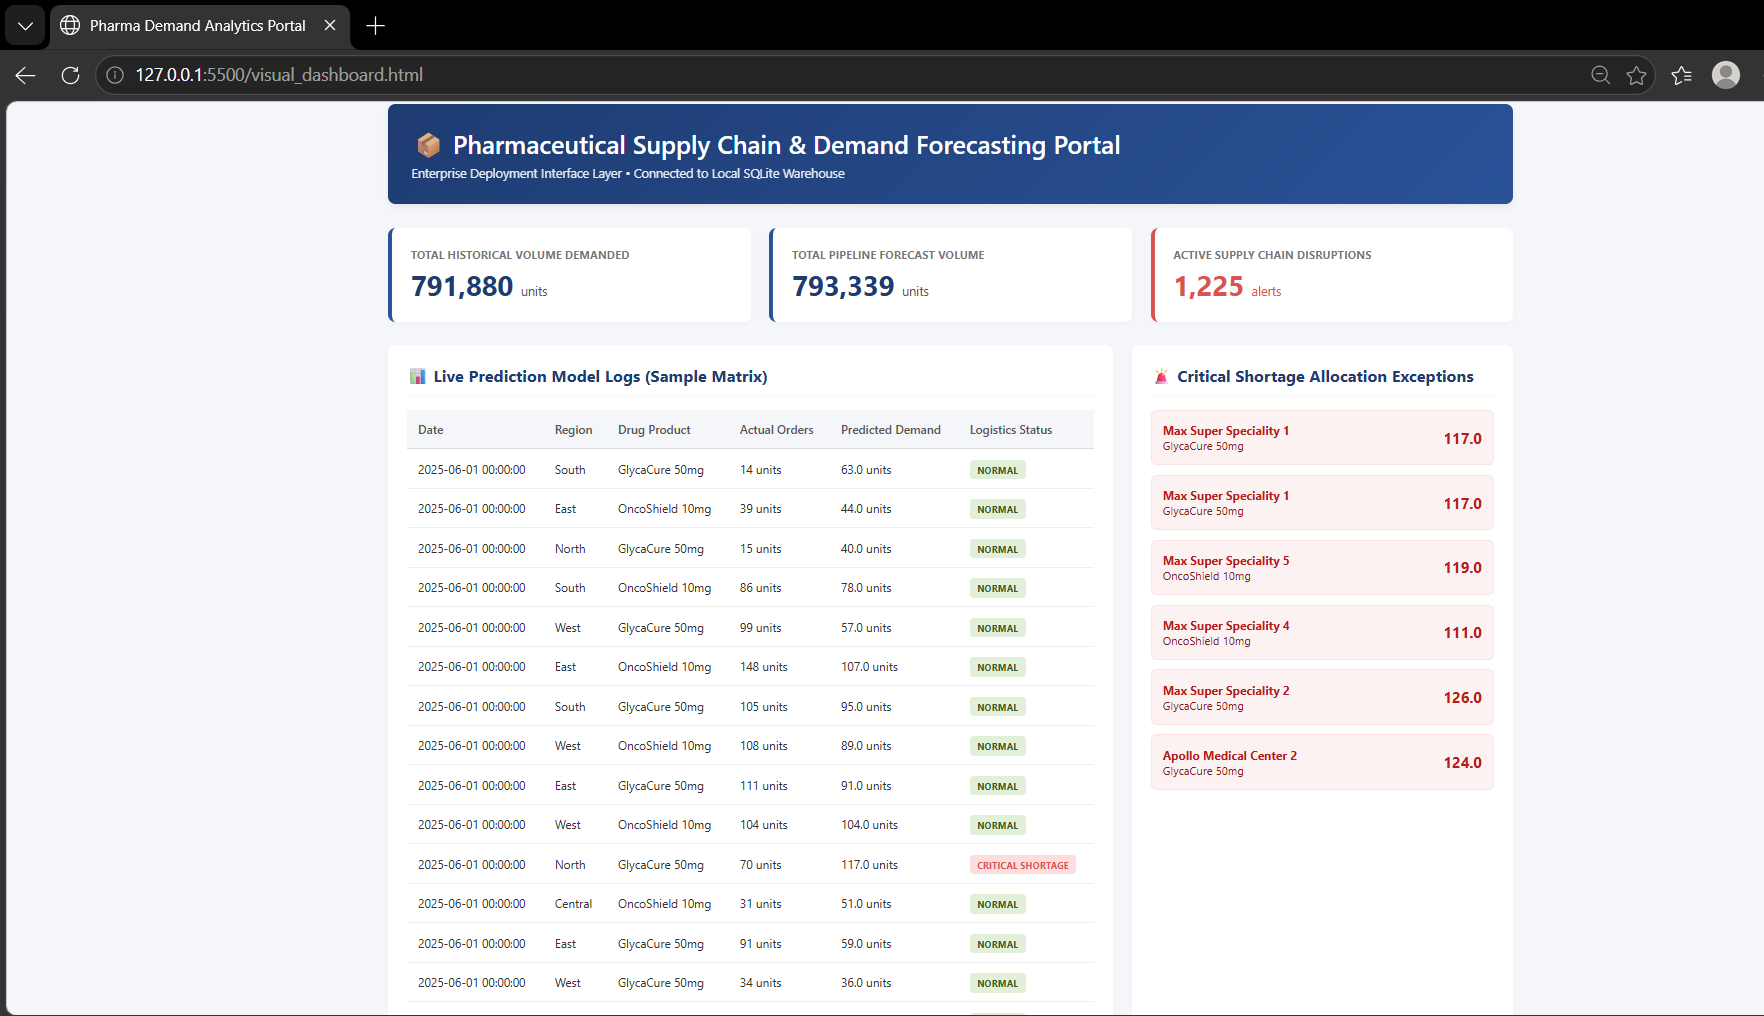

The page's visual inventory and layout, read from the dashboard file:
{"tool":"powerbi","page":{"name":"Page 1","canvas":[1280,720],"ordinal":0},"visuals":[{"type":"cardVisual","fields":{"Data":["Sum(demand_predictions.Units_Ordered)"]},"box":[10.1,69.9,279.5,202.9],"z":0},{"type":"cardVisual","fields":{"Data":["Sum(demand_predictions.Predicted_Demand)"]},"box":[10.1,286.3,279.5,204],"z":1000},{"type":"cardVisual","fields":{"Data":["CountNonNull(demand_predictions.Active Shortage Alerts)"]},"box":[10.1,502.7,279.5,216.4],"z":2000},{"type":"clusteredColumnChart","fields":{"Category":["demand_predictions.Drug_Name"],"Y":["Sum(demand_predictions.Predicted_Demand)"]},"box":[297.6,69.9,509.5,310],"z":3000},{"type":"donutChart","fields":{"Category":["demand_predictions.Region"],"Y":["Sum(sales_records.Units_Ordered)"]},"box":[297.6,391.1,447.5,328],"z":4000},{"type":"tableEx","fields":{"Values":["demand_predictions.Hospital_Name","demand_predictions.Drug_Name","Sum(demand_predictions.Predicted_Demand)"]},"box":[816,69.9,455.4,310],"z":5000},{"type":"lineClusteredColumnComboChart","fields":{"Y":["Sum(sales_records.Units_Ordered)"],"Y2":["Sum(demand_predictions.Predicted_Demand)"]},"box":[755.2,391.1,516.2,328],"z":6000},{"type":"shape","box":[0,0,1280,58.6],"z":7000},{"type":"textbox","box":[180,0,919,58],"z":8000}]}

Visuals, with their boxes on the page's 1280x720 design canvas (x1, y1, x2, y2). These are canvas units, not pixel positions in the 1764x1016 screenshot, which may show the page scaled, cropped or inside an application window:
cardVisual - Sum(demand_predictions.Units_Ordered): {"x1": 10, "y1": 70, "x2": 290, "y2": 273}
cardVisual - Sum(demand_predictions.Predicted_Demand): {"x1": 10, "y1": 286, "x2": 290, "y2": 490}
cardVisual - CountNonNull(demand_predictions.Active Shortage Alerts): {"x1": 10, "y1": 503, "x2": 290, "y2": 719}
clusteredColumnChart - demand_predictions.Drug_Name x Sum(demand_predictions.Predicted_Demand): {"x1": 298, "y1": 70, "x2": 807, "y2": 380}
donutChart - demand_predictions.Region x Sum(sales_records.Units_Ordered): {"x1": 298, "y1": 391, "x2": 745, "y2": 719}
tableEx - demand_predictions.Hospital_Name x demand_predictions.Drug_Name: {"x1": 816, "y1": 70, "x2": 1271, "y2": 380}
lineClusteredColumnComboChart - Sum(sales_records.Units_Ordered) x Sum(demand_predictions.Predicted_Demand): {"x1": 755, "y1": 391, "x2": 1271, "y2": 719}
shape: {"x1": 0, "y1": 0, "x2": 1280, "y2": 59}
textbox: {"x1": 180, "y1": 0, "x2": 1099, "y2": 58}
